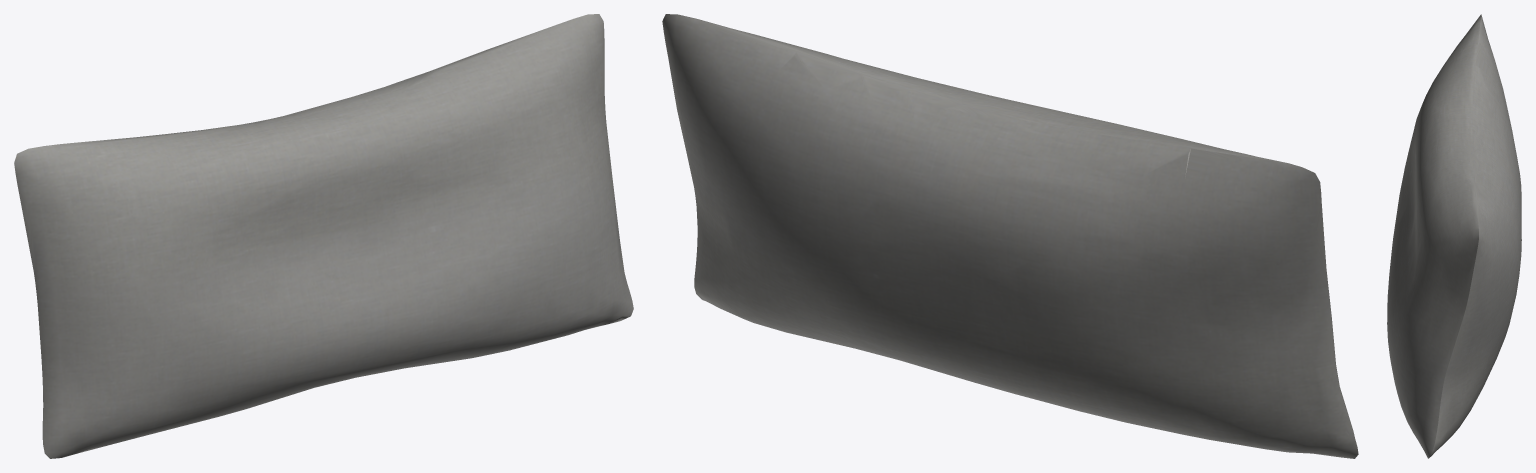
Rendered from TheMuraka_Int_Pillow3.fbx.
The picture shows the model from 3 angles, left to right: view 1: azimuth 30°, elevation 25°; view 2: azimuth 150°, elevation 25°; view 3: azimuth 270°, elevation 25°; orthographic projection. The views are drawn at different scales.
Parts seen in each view (by area): view 1: pilow3; view 2: pilow3; view 3: pilow3.
Part boxes in pixels (x1,y1,x2,y2): pilow3: [14, 14, 633, 458]; pilow3: [662, 14, 1358, 458]; pilow3: [1387, 14, 1521, 458].
Size of the model in its own units: 106 by 48.83 by 26.55.
